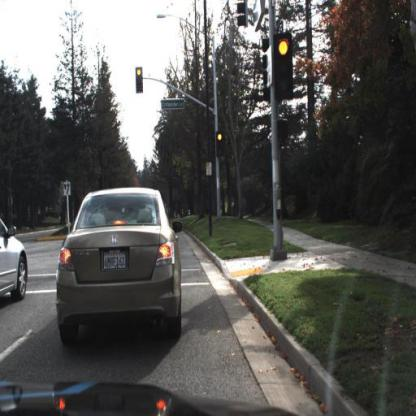car: (52, 183, 184, 348), (0, 200, 29, 304)
trafficLight-Red: (271, 28, 295, 102), (215, 128, 225, 158), (134, 64, 144, 92)
